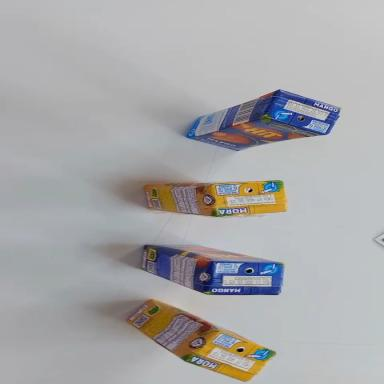HIT-MANGO: (180, 80, 344, 159), (136, 235, 286, 309)
HIT-MORA: (120, 292, 276, 384), (144, 177, 287, 221)
cara_F: (188, 108, 326, 159), (147, 236, 281, 274)
